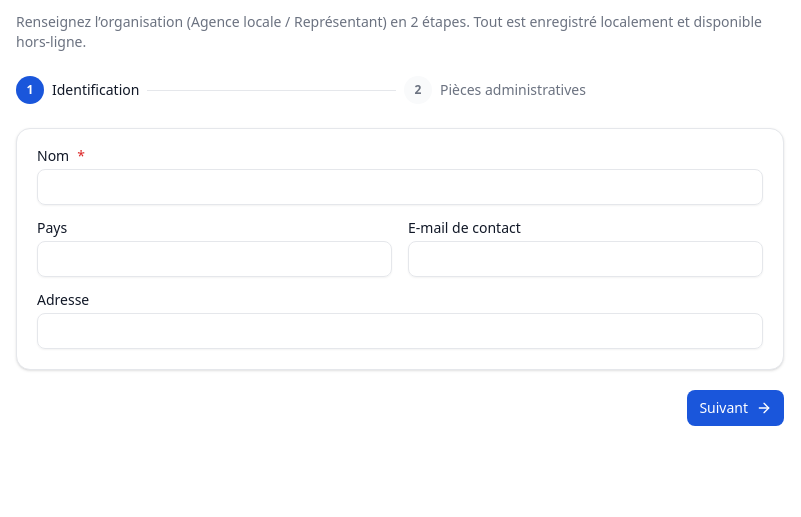
OrgWizardPage (création — wizard 3 sessions, chrome Nouveau produit) › Terminer sans nom → erreur, retour session 1, rien créé
What coordinates should you click on to do the following:
click the button "Suivant"
I would click on:
 (736, 408)
Its box is [687,390,784,426].
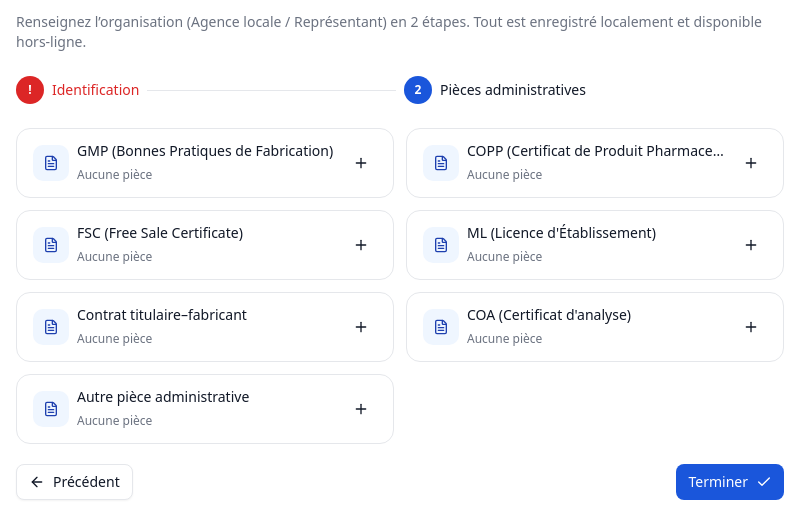
What coordinates should you click on to do the following:
click the button "Terminer"
I would click on:
 (730, 482)
Its box is [676,464,784,500].
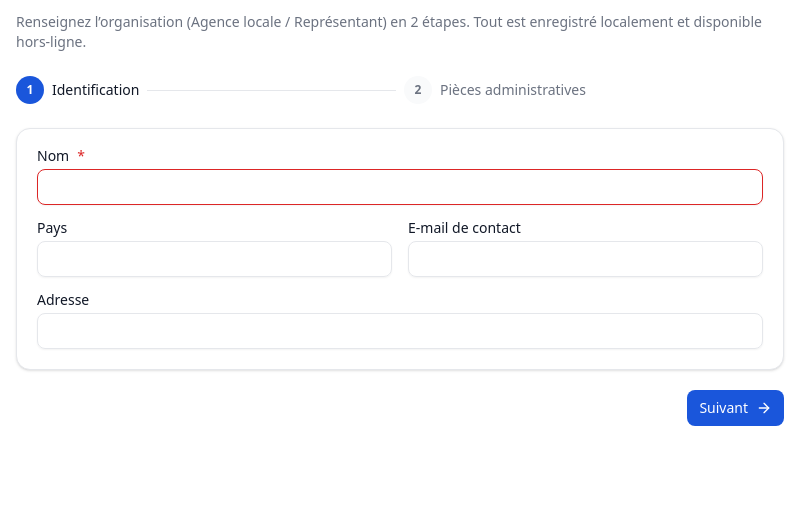
Check: the field labelled "Nom *" is shown, box [37,169,763,205]
